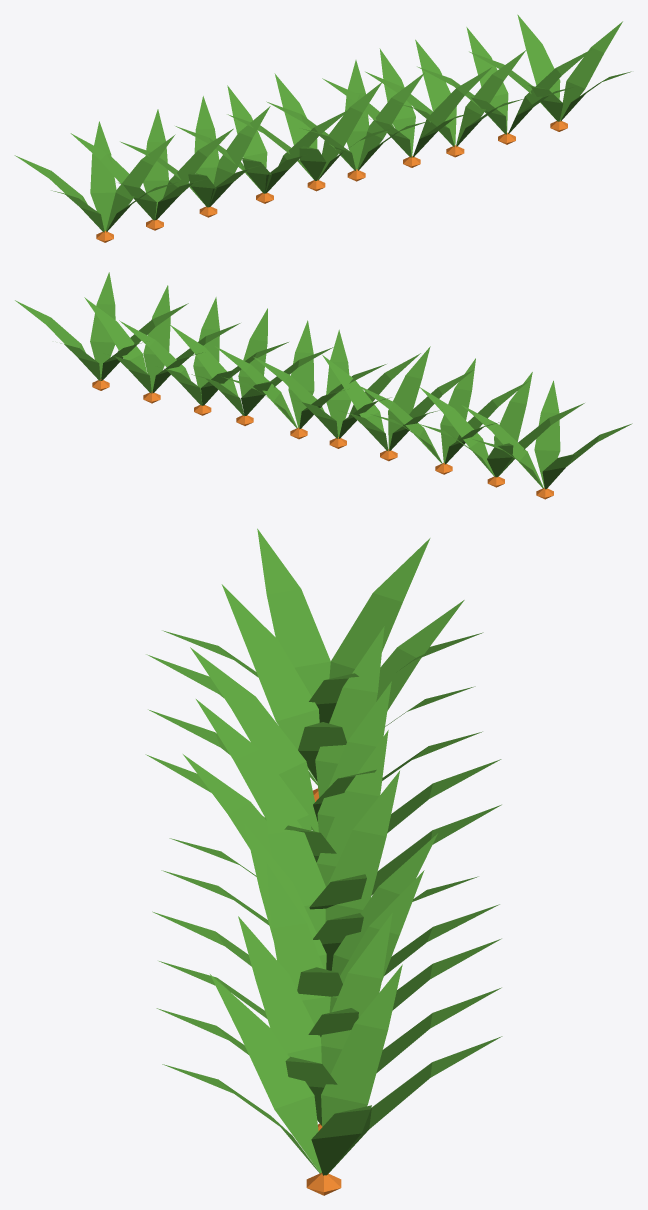
The model's file is carrot_row.glb.
The picture shows the model from 3 angles, top to bottom: view 1: azimuth 30°, elevation 25°; view 2: azimuth 150°, elevation 25°; view 3: azimuth 270°, elevation 25°; orthographic projection. The views are drawn at different scales.
Parts seen in each view (by area): view 1: carrot_row; view 2: carrot_row; view 3: carrot_row.
Part boxes in pixels (left/top/right/bottom): carrot_row: left=14, top=14, right=631, bottom=242; carrot_row: left=15, top=272, right=632, bottom=499; carrot_row: left=145, top=528, right=502, bottom=1195.
Bounding box in the file's own units: 1.22 × 0.1616 × 0.3207.
